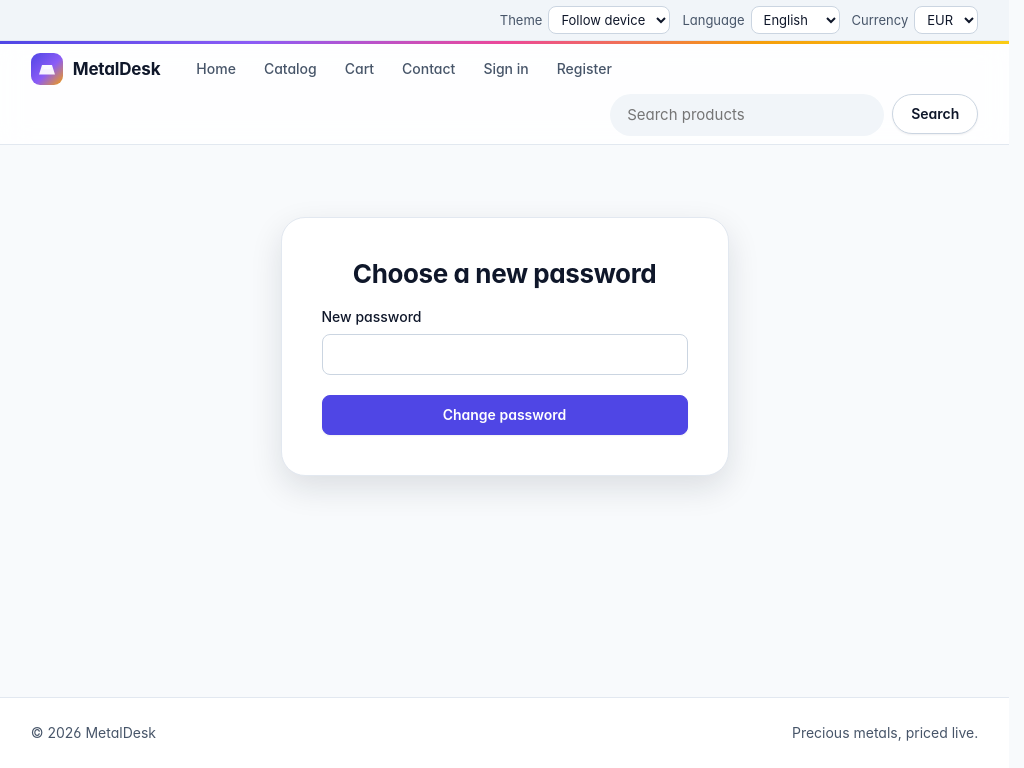
Test case: password reset › changes the password from the emailed link
This screenshot has width=1024, height=768.
In the password field labelled "New password": (504, 355) [322,334,688,375], type "a-new-password-1"
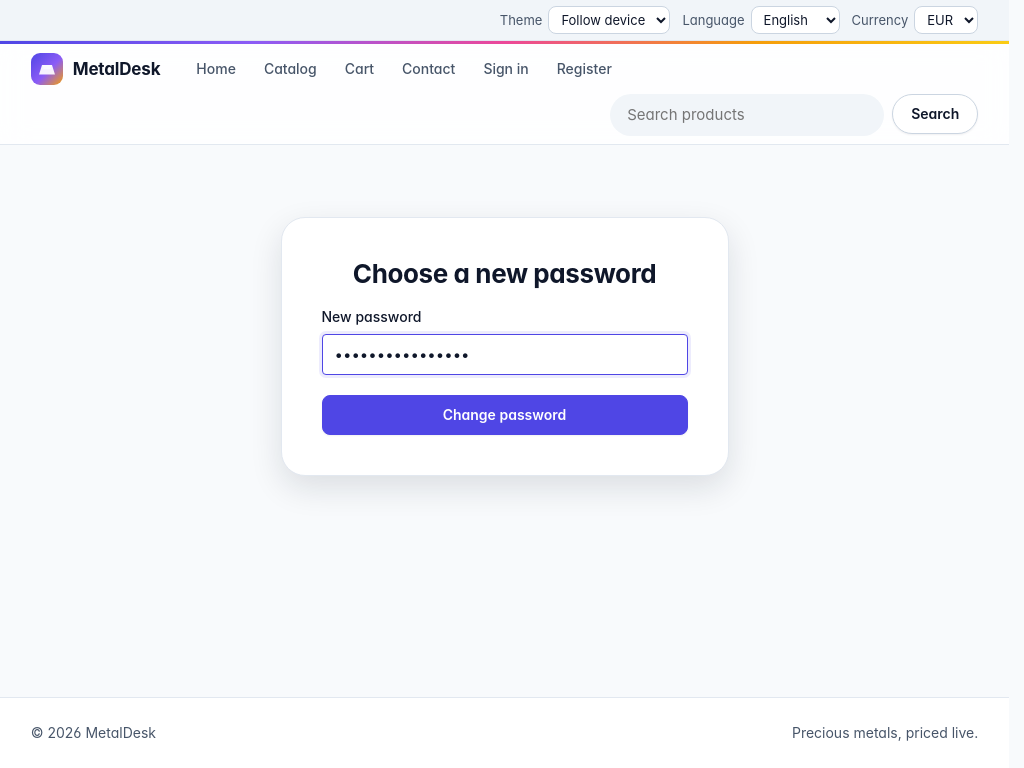
Click the button "Change password": (504, 415) [322,395,688,435]
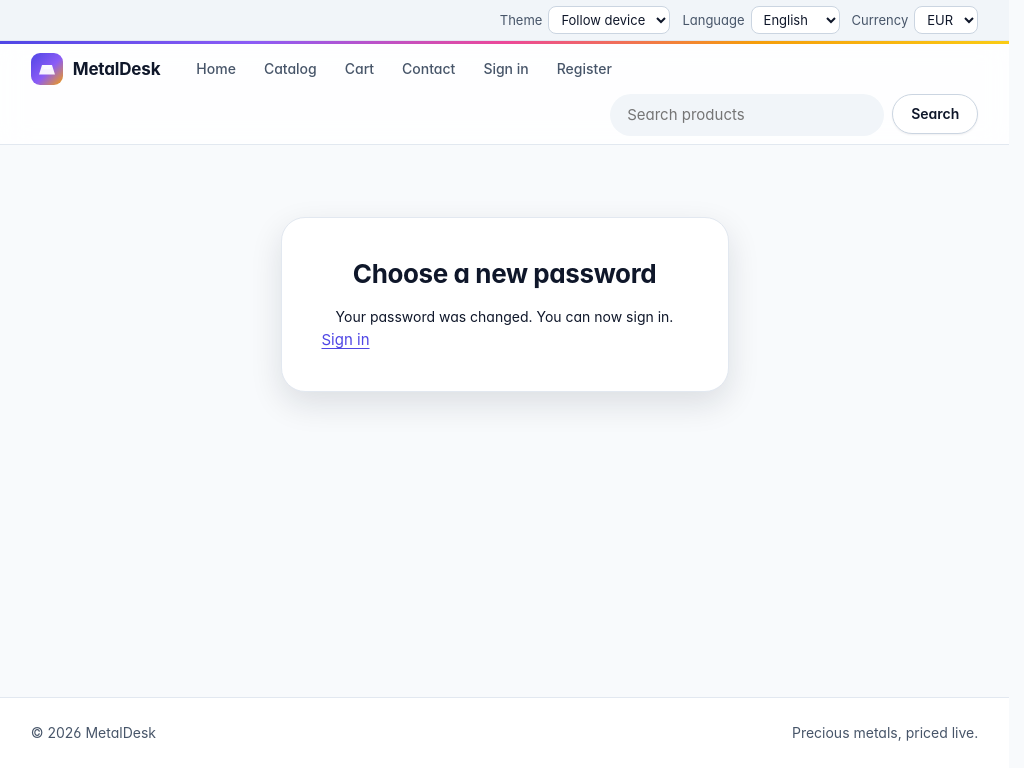
expect the message shows "Your password was changed": met, box [336,308,673,325]
